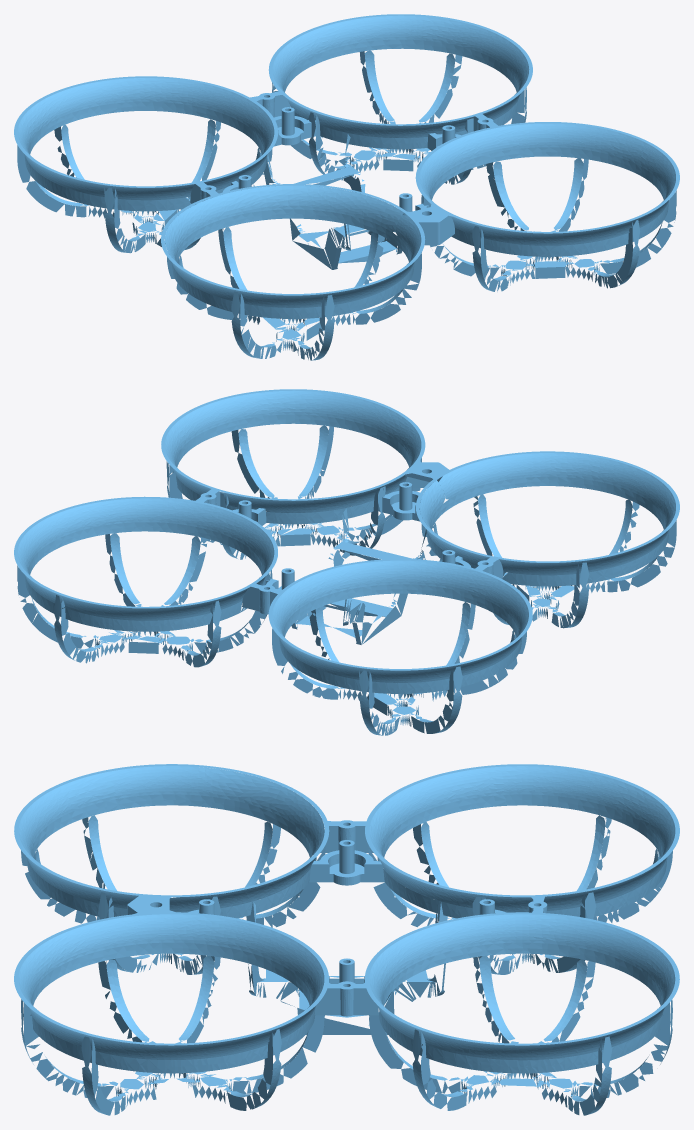
File: meteor65.glb
The picture shows the model from 3 angles, top to bottom: view 1: azimuth 30°, elevation 25°; view 2: azimuth 150°, elevation 25°; view 3: azimuth 270°, elevation 25°; orthographic projection. The views are drawn at different scales.
Visible parts, largest first — view 1: meteor65__m0; view 2: meteor65__m0; view 3: meteor65__m0.
Boxes of the visible parts, box(x1,y1,x2,y2) form: meteor65__m0: box(14, 14, 679, 360); meteor65__m0: box(14, 389, 679, 735); meteor65__m0: box(14, 764, 679, 1115).
Size of the model in its own units: 0.0873 by 0.0162 by 0.0873.
